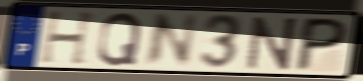3: (198, 12, 244, 72)
H: (38, 10, 100, 67)
N: (141, 13, 200, 69), (244, 15, 300, 71)
P: (291, 15, 352, 73)
Q: (95, 11, 144, 68)
